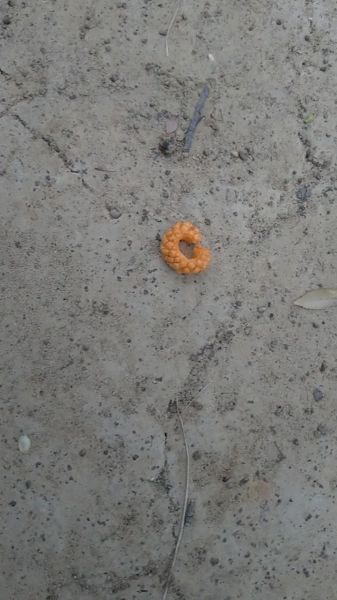eggs: (156, 207, 221, 280)
